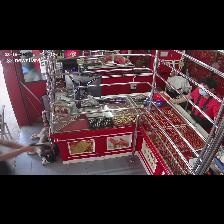person: (0, 140, 37, 174), (186, 88, 220, 120), (21, 52, 43, 81), (116, 50, 133, 54)
